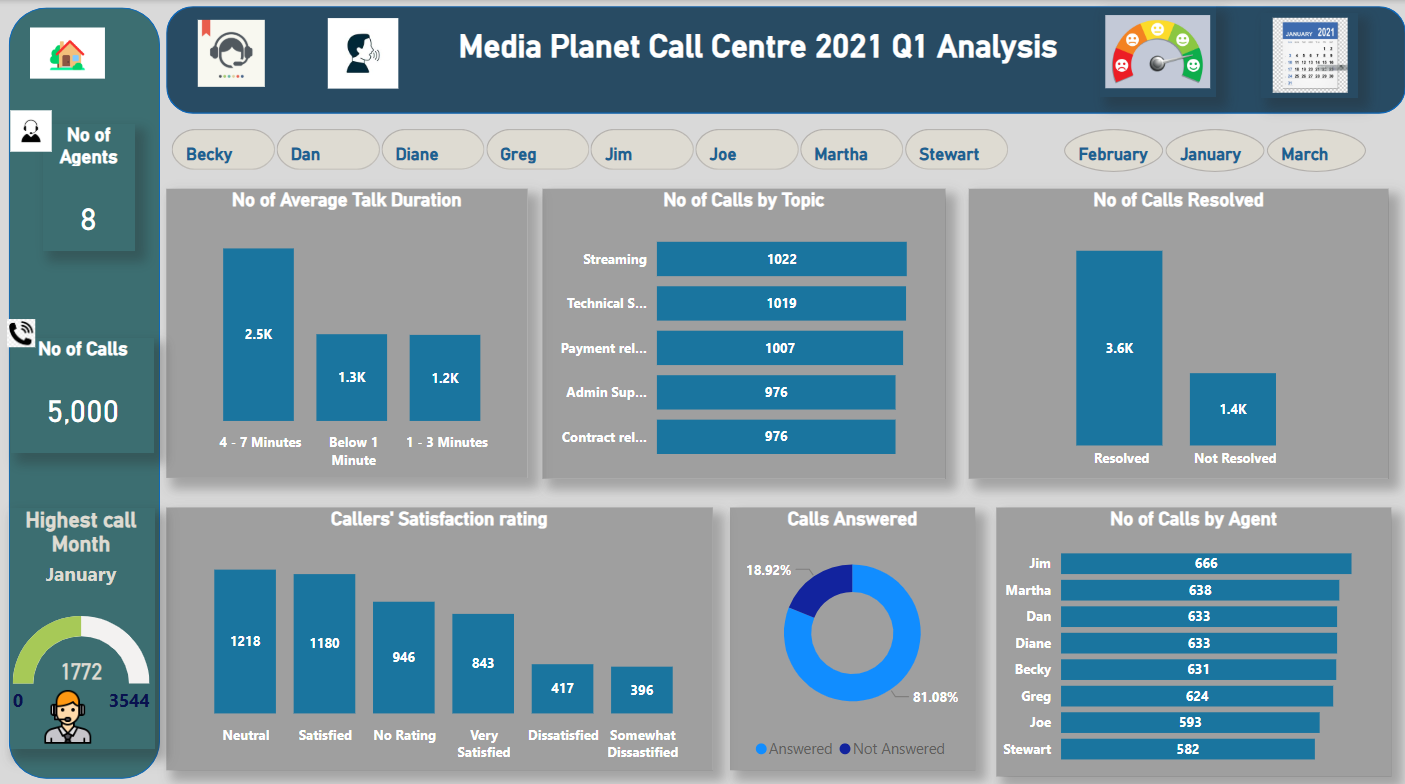

This screenshot's page, from the dashboard's own definition file:
{"tool":"powerbi","page":{"name":"Call centre","canvas":[1280,720],"ordinal":0},"visuals":[{"type":"shape","box":[7.9,6.8,137.2,699.8],"z":0},{"type":"shape","box":[150.9,5.7,1125.1,97.5],"z":1000},{"type":"cardVisual","title":"No of Agents","fields":{"Data":["Call Center.No of Agents"]},"box":[39,112.5,83.7,115.4],"z":2000},{"type":"clusteredBarChart","fields":{"Category":["Call Center.Agent"],"Y":["Call Center.No of Calls"]},"box":[904,460.5,358.4,243.9],"z":3000},{"type":"columnChart","title":"No of Calls Resolved","fields":{"Category":["Call Center.Resolved"],"Y":["Call Center.No of Calls"]},"box":[879,171.3,381.1,263.1],"z":4000},{"type":"donutChart","title":"Calls Answered","fields":{"Category":["Call Center.Answered (YES/NO)"],"Y":["Call Center.No of Calls"]},"box":[662.4,460.5,222.3,238.2],"z":5000},{"type":"image","box":[27.4,24.5,67.8,46.2],"z":6000},{"type":"image","box":[174.7,6.8,70.3,82.8],"z":7000},{"type":"image","box":[292.6,6.8,73.7,82.8],"z":8000},{"type":"image","box":[1144.1,11.5,88,77.9],"z":9000},{"type":"image","box":[998.4,5.8,105.3,82.2],"z":10000},{"type":"textbox","title":"Media Planet Call Centre 2021 Q1 Analysis","box":[402.6,25,570.5,61.2],"z":11000},{"type":"cardVisual","title":"No of Calls","fields":{"Data":["Call Center.No of Calls made"]},"box":[10.7,306.1,129.9,105],"z":12000},{"type":"clusteredColumnChart","title":"Callers'' Satisfaction rating","fields":{"Category":["Call Center.Satisfaction rating"],"Y":["Call Center.No of Calls"]},"box":[150.9,460.5,495.7,238.2],"z":13000},{"type":"advancedSlicerVisual","fields":{"Values":["Call Center.Agent"]},"box":[150.9,112.3,771.3,47.6],"z":14000},{"type":"image","box":[4.3,95.2,47.6,47.6],"z":15000},{"type":"image","box":[0,284.8,39.2,35.6],"z":16000},{"type":"advancedSlicerVisual","fields":{"Values":["Call Center.MonthName"]},"box":[960.7,112.3,285.8,49.9],"z":17000},{"type":"columnChart","fields":{"Category":["Call Center.Topic"],"Y":["Call Center.No of Calls"]},"box":[492.3,171.3,365.2,263.1],"z":18000},{"type":"columnChart","title":"No of Average Talk Duration","fields":{"Category":["Call Center.Talk Duration"],"Y":["Call Center.No of Calls"]},"box":[150.9,171.3,327.8,262],"z":19000},{"type":"gauge","title":"Highest call Month","fields":{"Y":["Call Center.No of Calls"]},"box":[7.1,461,133.5,218.9],"z":20000},{"type":"image","box":[28.9,620.4,66.4,60.6],"z":21000}]}

Visuals, with their boxes in screenshot pixels (x1, y1, x2, y2), scaled from the page's 1280x720 canvas onto the 1405x784 screenshot:
shape: [9,7,159,769]
shape: [166,6,1401,112]
"No of Agents" cardVisual: [43,122,135,248]
clusteredBarChart - Call Center.Agent x Call Center.No of Calls: [992,501,1386,767]
"No of Calls Resolved" columnChart: [965,187,1383,473]
"Calls Answered" donutChart: [727,501,971,761]
image: [30,27,104,77]
image: [192,7,269,98]
image: [321,7,402,98]
image: [1256,13,1352,97]
image: [1096,6,1211,96]
"Media Planet Call Centre 2021 Q1 Analysis" textbox: [442,27,1068,94]
"No of Calls" cardVisual: [12,333,154,448]
"Callers'' Satisfaction rating" clusteredColumnChart: [166,501,710,761]
advancedSlicerVisual - Call Center.Agent: [166,122,1012,174]
image: [5,104,57,155]
image: [0,310,43,349]
advancedSlicerVisual - Call Center.MonthName: [1055,122,1368,177]
columnChart - Call Center.Topic x Call Center.No of Calls: [540,187,941,473]
"No of Average Talk Duration" columnChart: [166,187,525,472]
"Highest call Month" gauge: [8,502,154,740]
image: [32,676,105,742]
